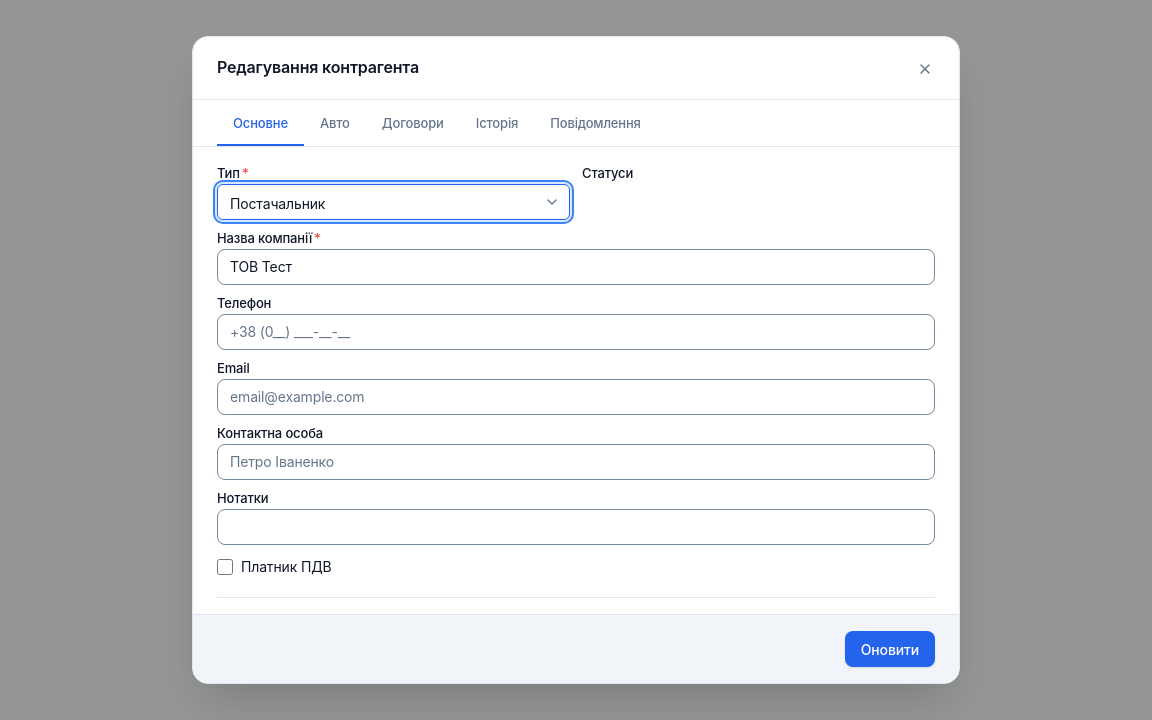
CounterpartyEditModal — «Вид договору» за типом контрагента (BR-CP-005) › SUPPLIER → у списку лише PURCHASE, він же обраний за замовчуванням; поле редаговане
This screenshot has width=1152, height=720.
Click the button "Договори": (413, 125) [366, 104, 460, 146]
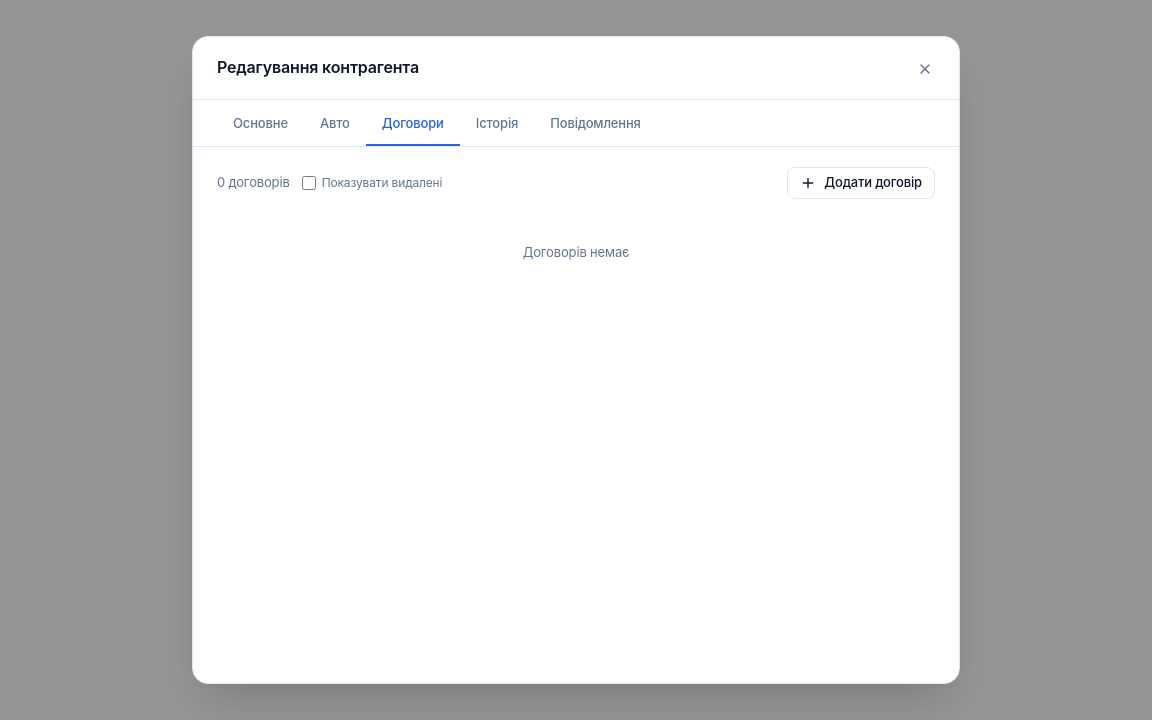
Expected: the button "Додати договір" is shown
Click the button "Додати договір": (861, 182) [787, 166, 935, 198]
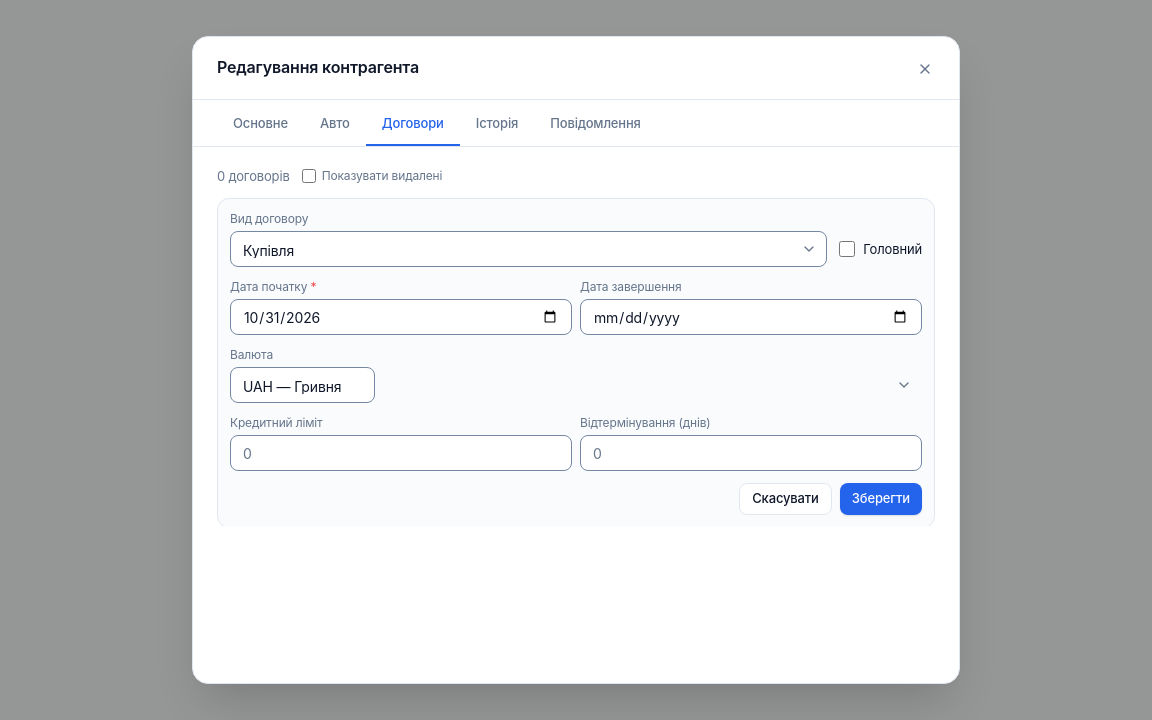
Expected: the dropdown below "Вид договору" shows "Купівля", [230, 231, 827, 267]
Expected: the dropdown below "Вид договору" is enabled, [230, 231, 827, 267]
Expected: the button "Зберегти" is enabled, [840, 483, 922, 515]
